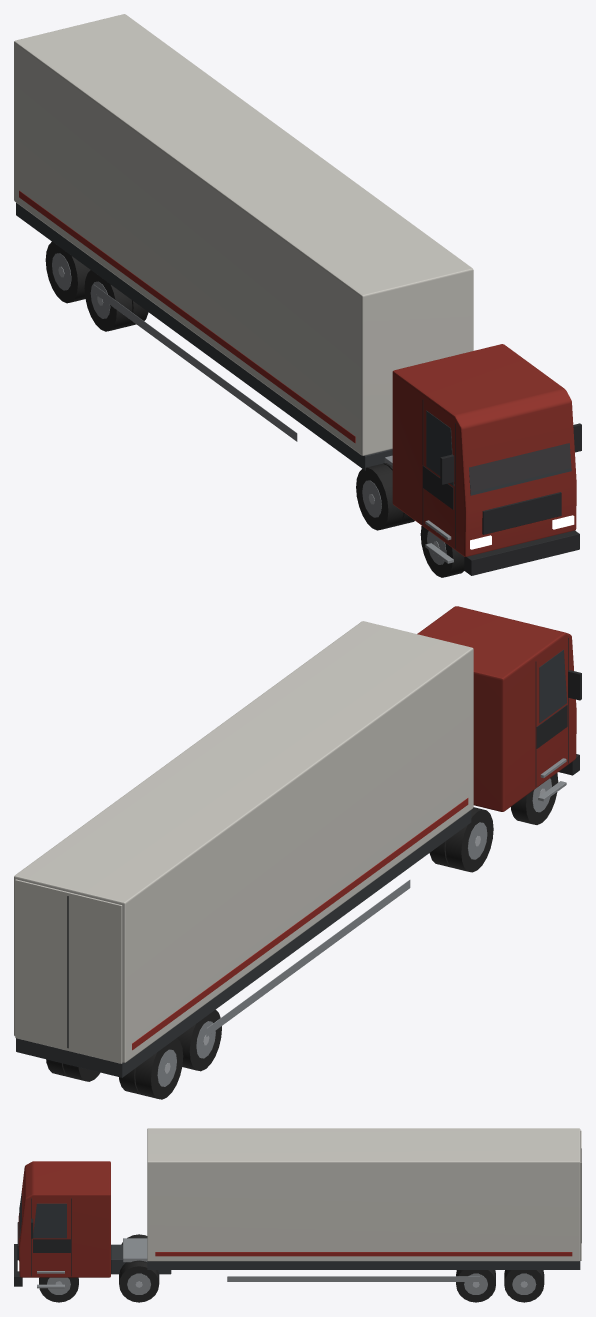
The model's file is veh_lorry.glb.
The picture shows the model from 3 angles, top to bottom: view 1: azimuth 30°, elevation 25°; view 2: azimuth 150°, elevation 25°; view 3: azimuth 270°, elevation 25°; orthographic projection. The views are drawn at different scales.
Visible parts, largest first — view 1: Body, Wheels, CabDoorLMesh; view 2: Body, Wheels, CabDoorLMesh; view 3: Body, Wheels, CabDoorRMesh.
Boxes of the visible parts, bbox=[...] form: Body: bbox=[14, 14, 581, 575]; Wheels: bbox=[45, 242, 464, 577]; CabDoorLMesh: bbox=[422, 465, 453, 509]; Body: bbox=[14, 606, 581, 1077]; Wheels: bbox=[46, 773, 558, 1099]; CabDoorLMesh: bbox=[536, 704, 567, 748]; Body: bbox=[14, 1128, 581, 1288]; Wheels: bbox=[39, 1234, 544, 1302]; CabDoorRMesh: bbox=[33, 1239, 70, 1252].
Bounding box in the file's own units: 2.5 × 3.9 × 14.16.
